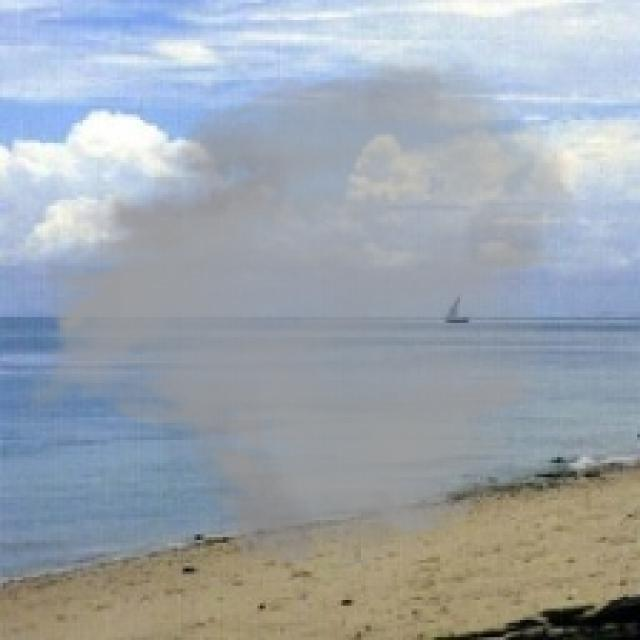Smoke: (17, 52, 583, 574)
